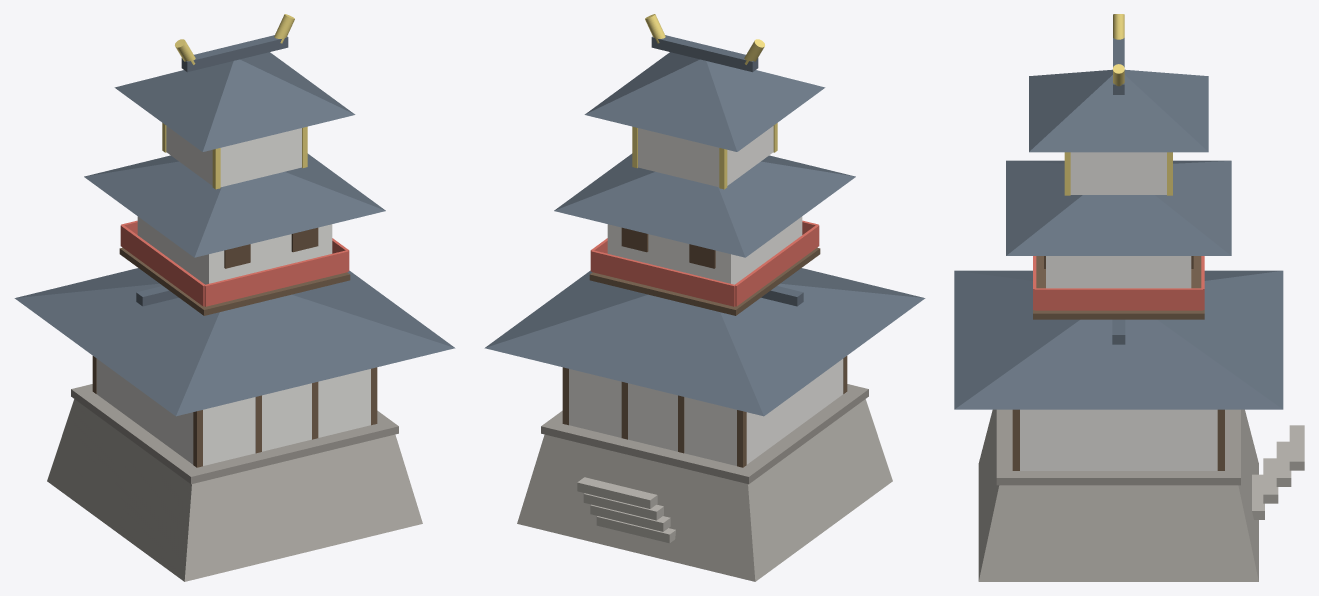
File: japanese_castle_tenshu_01.glb
3 renders of one model, left to right at view 1: azimuth 30°, elevation 25°; view 2: azimuth 150°, elevation 25°; view 3: azimuth 270°, elevation 25°, orthographic.
Parts seen in each view (by area): view 1: Cone, Cone.001, Cone.002, Cone.003, Cube.006, Cube, Cube.026, Cube.021, Cube.019, Cube.016, Cube.017, Cube.031 (+1 smaller); view 2: Cone.001, Cone, Cone.002, Cone.003, Cube.006, Cube, Cube.026, Cube.021, Cube.020, Cube.016, Cube.017, Cube.031 (+5 smaller); view 3: Cone.001, Cone, Cone.002, Cone.003, Cube.006, Cube, Cube.021, Cube.026, Cube.018, Cube.016, Cube.005, Cube.003 (+4 smaller).
Boxes of the visible parts, x1,y1,x2,y2 form: Cone: (47, 399, 422, 581); Cone.001: (14, 268, 455, 416); Cone.002: (84, 153, 385, 257); Cone.003: (114, 52, 355, 151); Cube.006: (96, 359, 370, 465); Cube: (71, 384, 398, 484); Cube.026: (166, 126, 301, 187); Cube.021: (137, 216, 332, 284); Cube.019: (204, 250, 348, 306); Cube.016: (119, 247, 350, 315); Cube.017: (120, 225, 205, 306); Cube.031: (181, 35, 288, 72); Cone.001: (484, 268, 925, 416); Cone: (517, 399, 892, 581); Cone.002: (554, 153, 855, 257); Cone.003: (584, 52, 825, 151); Cube.006: (569, 359, 843, 465); Cube: (541, 384, 868, 484); Cube.026: (638, 126, 773, 187); Cube.021: (607, 216, 802, 284); Cube.020: (591, 250, 735, 306); Cube.016: (589, 247, 820, 315); Cube.017: (734, 225, 819, 306); Cube.031: (651, 35, 758, 72); Cone.001: (954, 270, 1283, 409); Cone: (978, 409, 1258, 581); Cone.002: (1006, 160, 1231, 255); Cone.003: (1029, 69, 1208, 152); Cube.006: (1020, 409, 1217, 470); Cube: (996, 409, 1240, 485); Cube.021: (1046, 256, 1191, 288); Cube.026: (1070, 152, 1166, 194); Cube.018: (1034, 288, 1202, 310); Cube.016: (1033, 256, 1204, 319); Cube.005: (1289, 425, 1304, 470); Cube.003: (1263, 458, 1278, 503).
Size of the model in its own units: 9.96 by 16.16 by 10.6.
